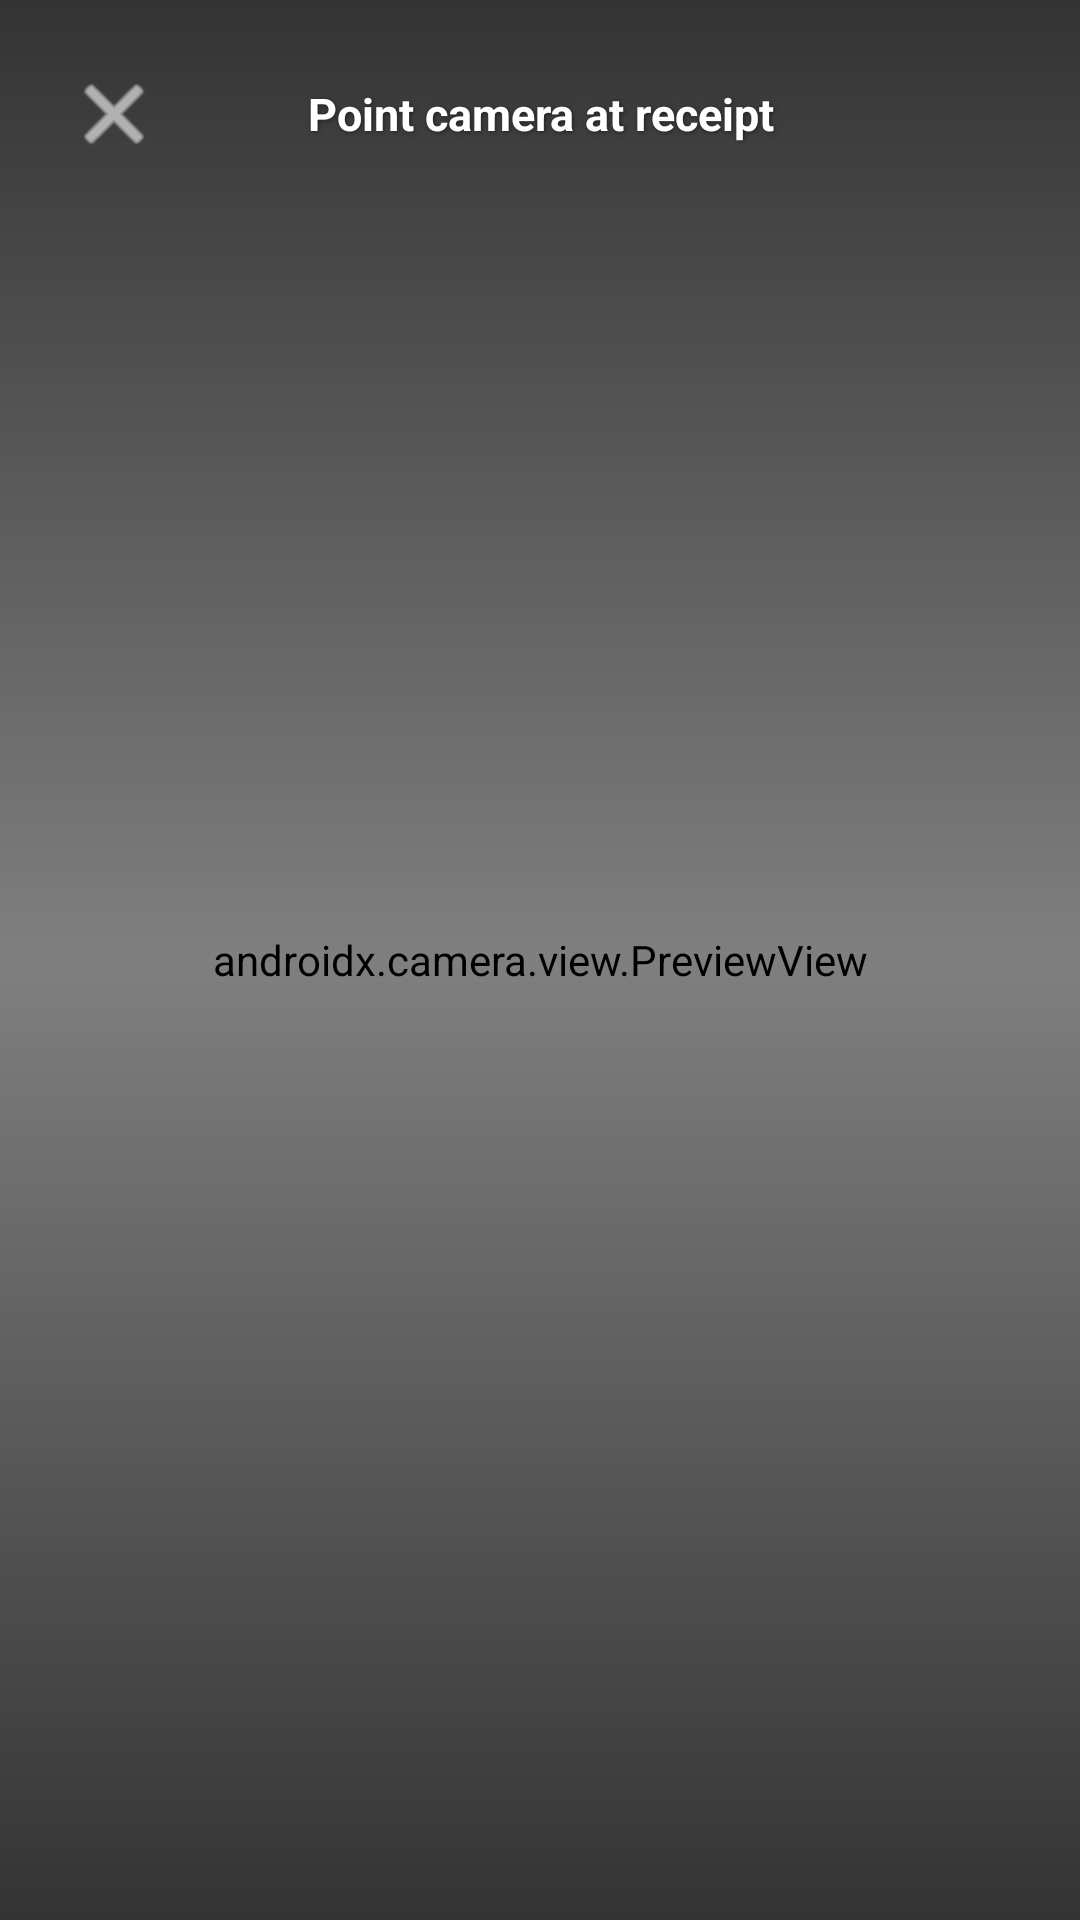

Icons on this 1080px×1920px Android screen, each with the point to tap as (x,y):
Close: (114,114)
